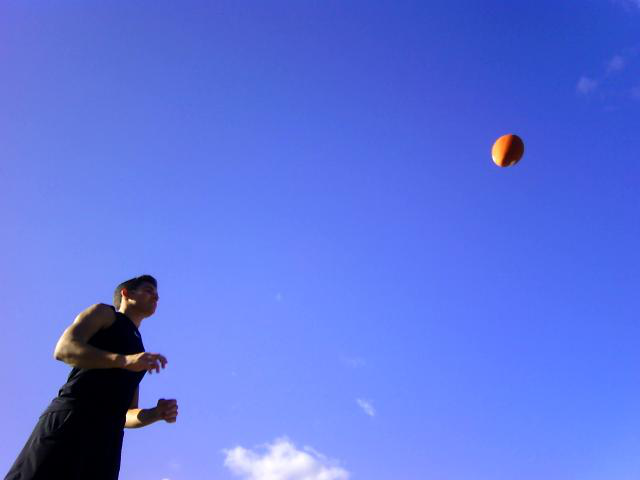football: (489, 131, 527, 172)
